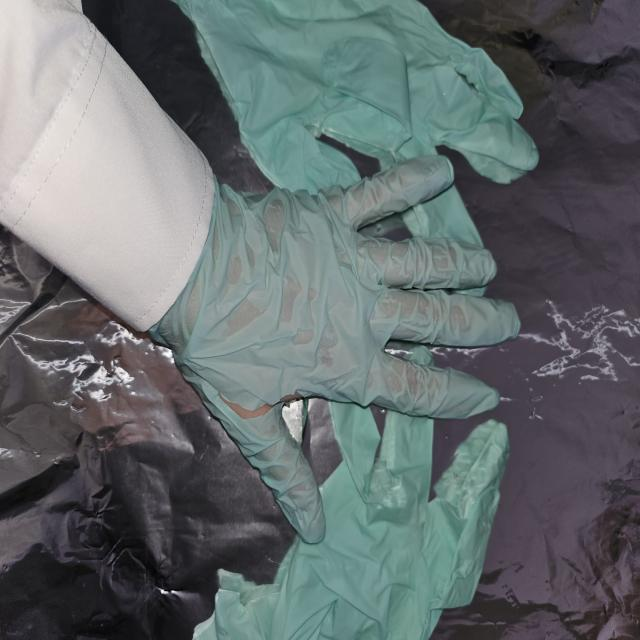gloves_damaged: (146, 155, 523, 546)
